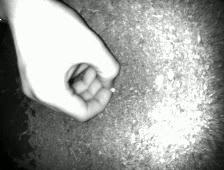corn: (152, 72, 166, 87), (109, 85, 117, 94)
